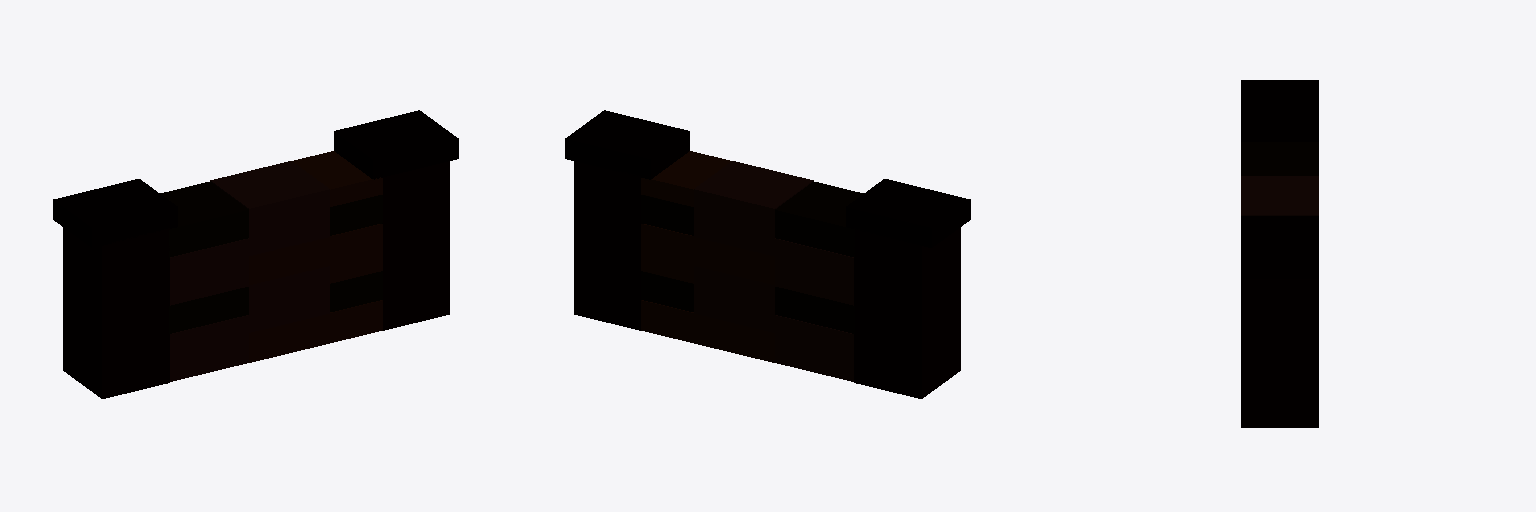
File: Wall2.obj
3 views of the same model, side by side, from view 1: azimuth 30°, elevation 25°; view 2: azimuth 150°, elevation 25°; view 3: azimuth 270°, elevation 25° (orthographic).
Visible parts, largest first — view 1: pCube20, pCube22, pCube27, pCube21, pCube23, pCube26, pCube12, pCube24, pCube11, pCube25, pCube14, pCube28 (+4 smaller); view 2: pCube20, pCube22, pCube27, pCube23, pCube21, pCube26, pCube12, pCube24, pCube11, pCube25, pCube14, pCube28 (+4 smaller); view 3: pCube22, pCube21, pCube23, pCube27, pCube26.
Part boxes in pixels (x1,y1,x2,y2): pCube20: (63, 227, 169, 398); pCube22: (382, 161, 449, 330); pCube27: (210, 161, 329, 255); pCube21: (334, 110, 458, 179); pCube23: (53, 179, 177, 247); pCube26: (160, 181, 248, 257); pCube12: (249, 300, 382, 362); pCube24: (249, 224, 382, 284); pCube11: (249, 266, 329, 332); pCube25: (170, 238, 248, 305); pCube14: (170, 315, 248, 381); pCube28: (292, 151, 382, 206); pCube20: (854, 227, 960, 398); pCube22: (574, 161, 641, 330); pCube27: (694, 161, 813, 256); pCube23: (846, 179, 970, 247); pCube21: (565, 110, 689, 179); pCube26: (775, 181, 863, 257); pCube12: (641, 300, 774, 362); pCube24: (641, 224, 774, 284); pCube11: (694, 266, 774, 332); pCube25: (775, 238, 853, 305); pCube14: (775, 315, 853, 381); pCube28: (641, 151, 731, 206); pCube22: (1241, 279, 1318, 427); pCube21: (1241, 216, 1318, 278); pCube23: (1241, 80, 1318, 141); pCube27: (1241, 176, 1318, 215); pCube26: (1241, 142, 1318, 175).
Bounding box in the file's own units: 5.44 × 2.47 × 1.